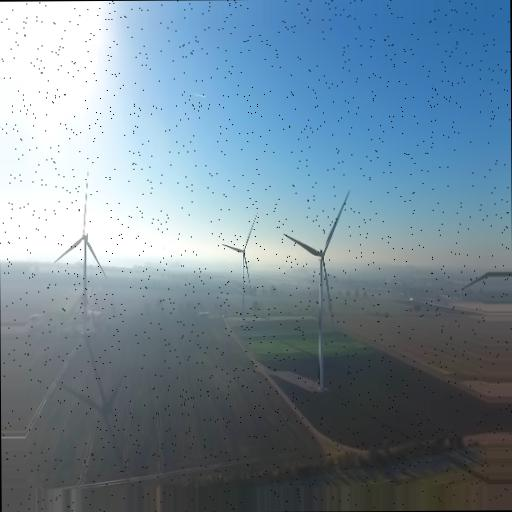wind turbine: (282, 191, 351, 389), (57, 170, 105, 301), (220, 211, 259, 309)
